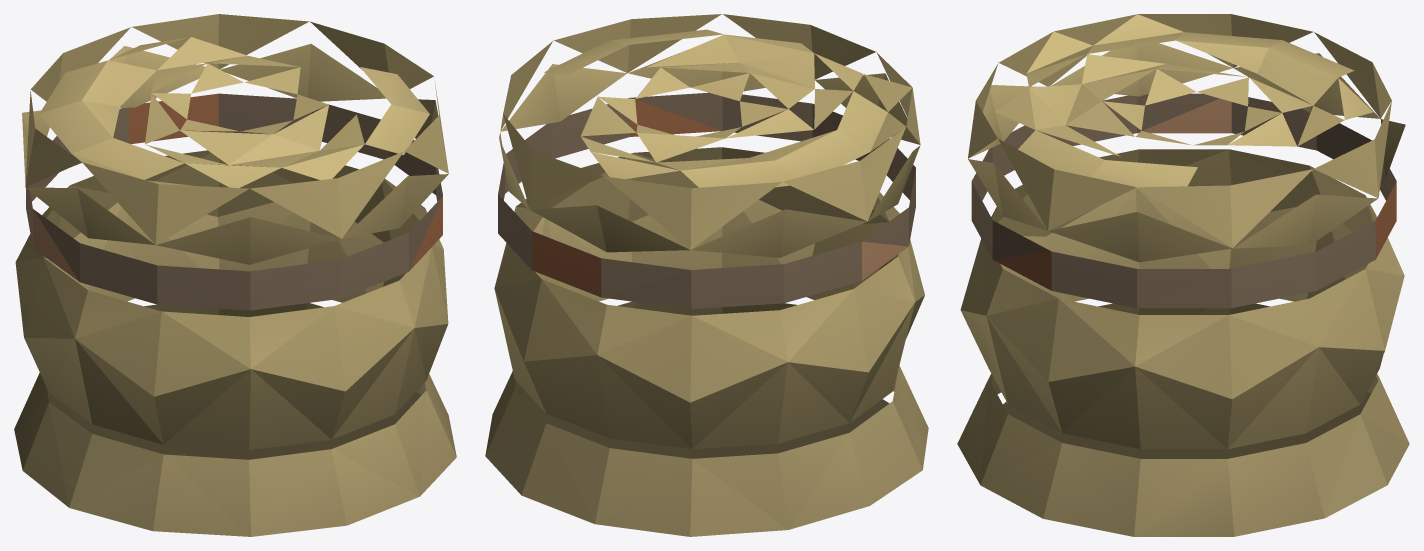
File: bale.lod.glb
The picture shows the model from 3 angles, left to right: view 1: azimuth 30°, elevation 25°; view 2: azimuth 150°, elevation 25°; view 3: azimuth 270°, elevation 25°; orthographic projection.
Visible parts, largest first — view 1: bale; view 2: bale; view 3: bale.
Part boxes in pixels (box(x1,y1,x2,y2)): bale: box(14, 14, 456, 536); bale: box(485, 14, 928, 536); bale: box(957, 14, 1409, 536).
Size of the model in its own units: 1.17 by 1 by 1.19.
